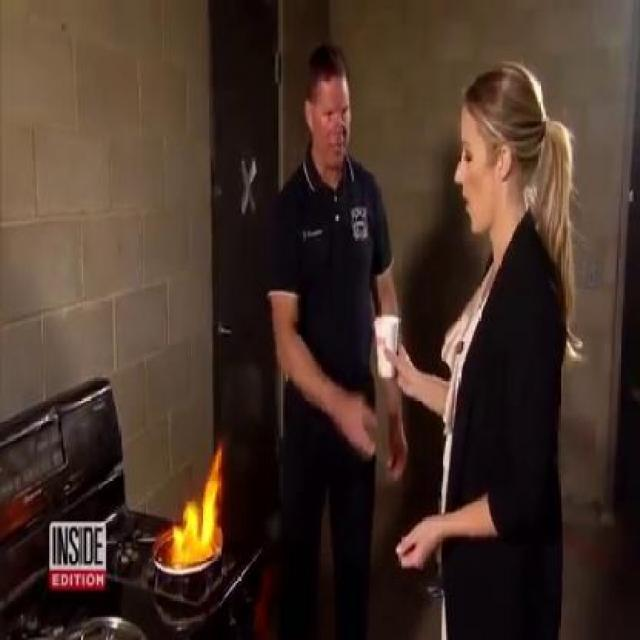fire: (162, 436, 228, 572)
